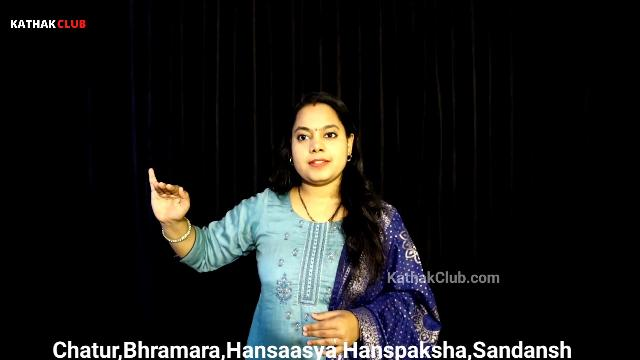Hamsapaksha: (146, 151, 208, 249)
